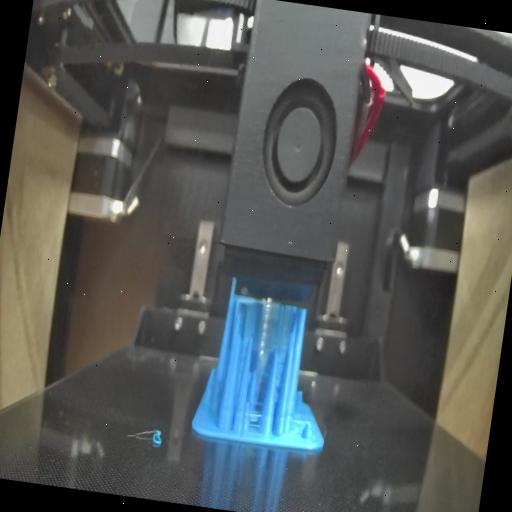stringing: (243, 298, 298, 356), (243, 404, 264, 436)
